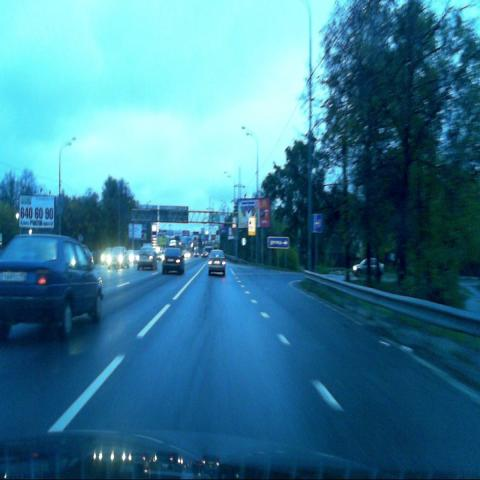6_8_2: (311, 214, 323, 233)
